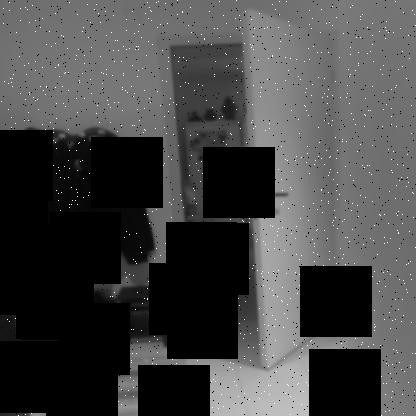Porte: (158, 6, 343, 370)
